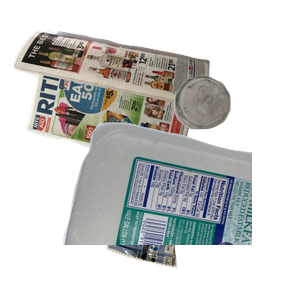glass: (172, 73, 300, 195)
paper: (11, 27, 213, 185)
plastic: (60, 120, 300, 300)
trash: (104, 152, 280, 300)
